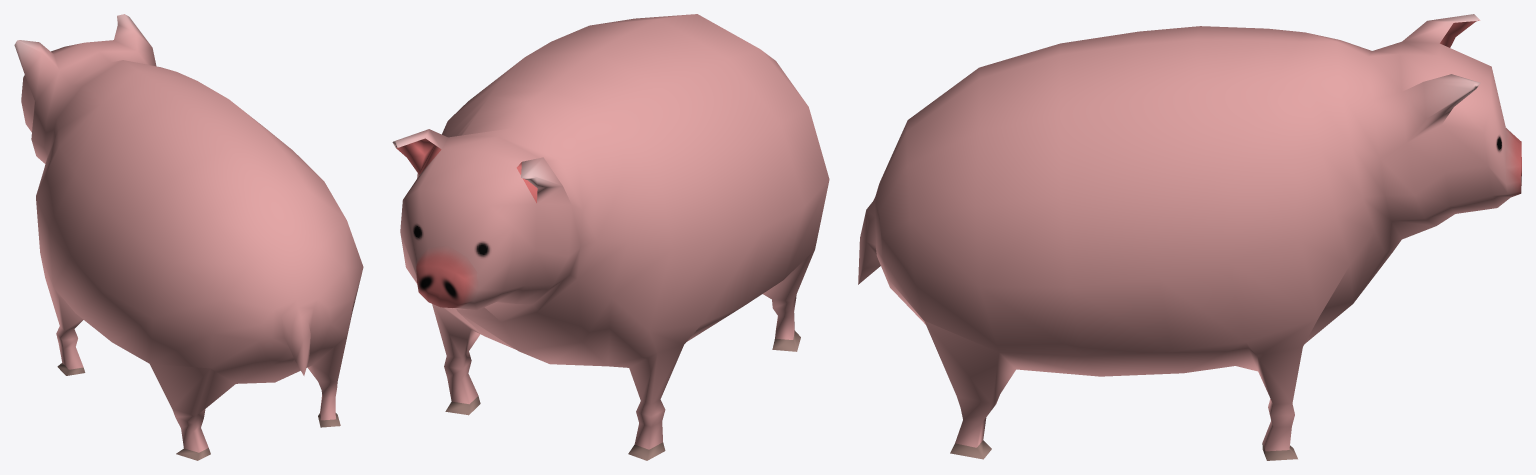
Rendered from peeg.fbx.
3 renders of one model, left to right at view 1: azimuth 30°, elevation 25°; view 2: azimuth 150°, elevation 25°; view 3: azimuth 270°, elevation 25°, orthographic. The views are drawn at different scales.
Parts seen in each view (by area): view 1: polySurface2; view 2: polySurface2; view 3: polySurface2.
Part boxes in pixels (x1=…): polySurface2: x1=14, y1=14, x2=363, y2=460; polySurface2: x1=392, y1=14, x2=829, y2=460; polySurface2: x1=858, y1=14, x2=1521, y2=460.
Bounding box in the file's own units: 2.06 × 2.27 × 3.72.
